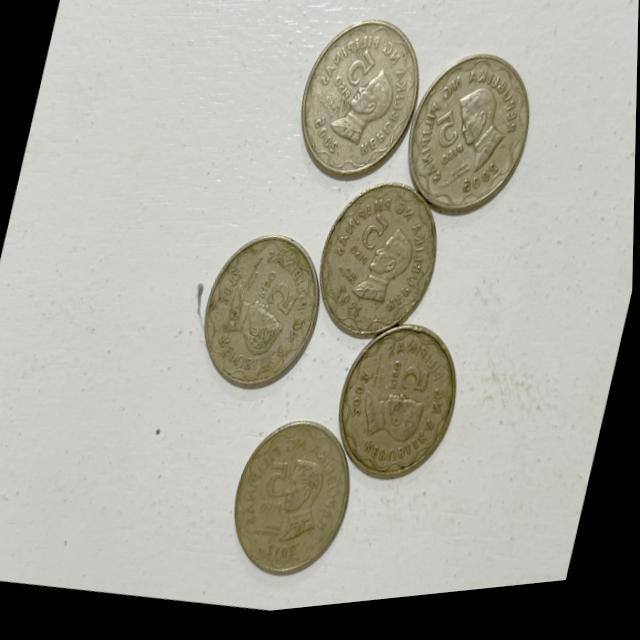5_Old_Front: (320, 46, 383, 120), (242, 263, 308, 333), (342, 204, 393, 286), (419, 115, 478, 183), (379, 360, 440, 419), (253, 463, 299, 529)
